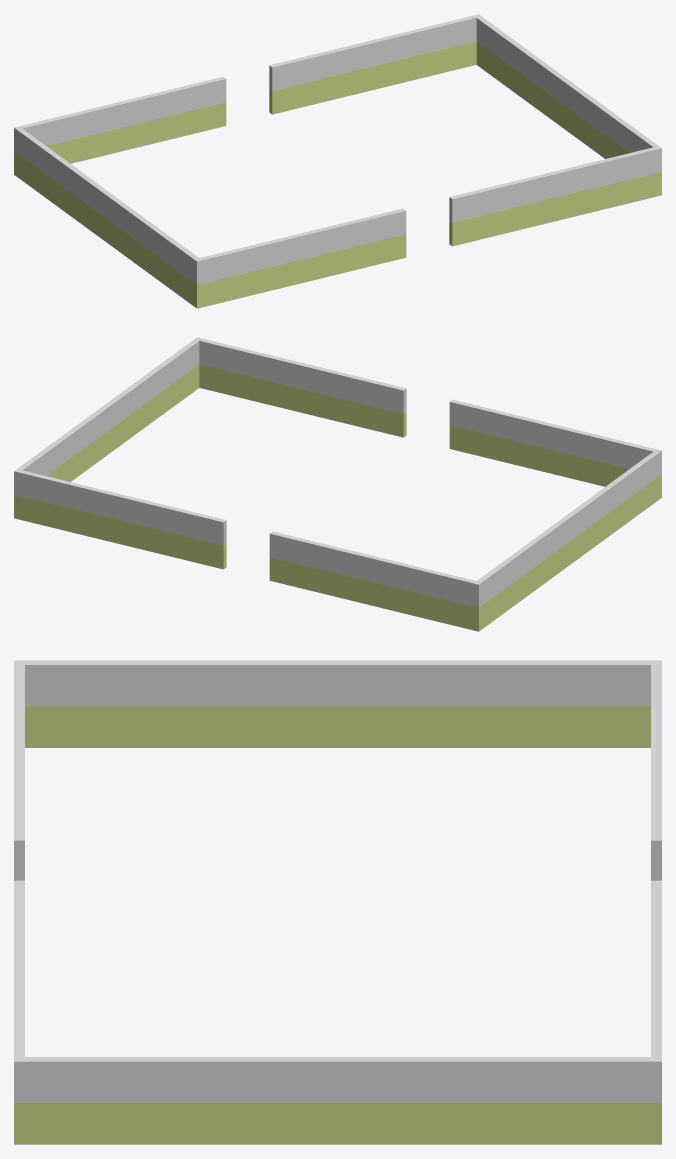
File: wall.fbx
The picture shows the model from 3 angles, top to bottom: view 1: azimuth 30°, elevation 25°; view 2: azimuth 150°, elevation 25°; view 3: azimuth 270°, elevation 25°; orthographic projection. The views are drawn at different scales.
Visible parts, largest first — view 1: Cube.003; view 2: Cube.003; view 3: Cube.003.
Part boxes in pixels (x1,y1,x2,y2): Cube.003: [14, 14, 661, 308]; Cube.003: [14, 337, 661, 631]; Cube.003: [14, 660, 661, 1144].
Bounding box in the file's own units: 4083 × 395 × 2787.
